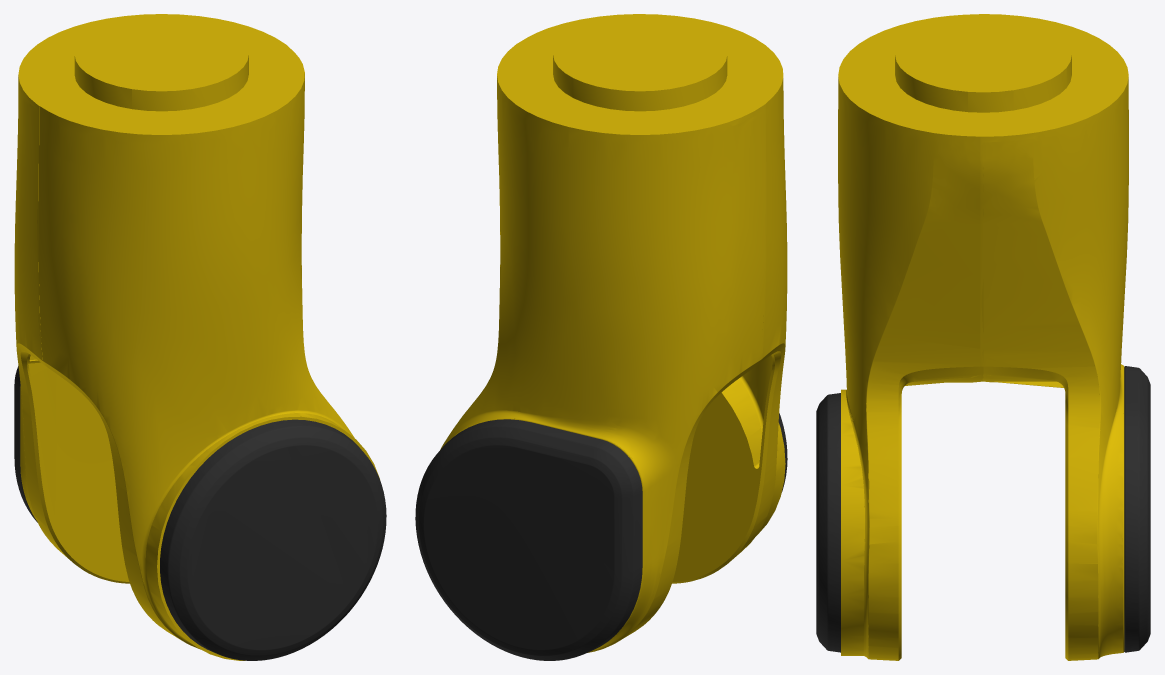
File: elbow_pitch_r_j3_link.glb
The picture shows the model from 3 angles, left to right: view 1: azimuth 30°, elevation 25°; view 2: azimuth 150°, elevation 25°; view 3: azimuth 270°, elevation 25°; orthographic projection.
Parts seen in each view (by area): view 1: Mesh_0.033; view 2: Mesh_0.033; view 3: Mesh_0.033.
Boxes of the visible parts, box(x1,y1,x2,y2) form: Mesh_0.033: box(14, 14, 386, 660); Mesh_0.033: box(415, 14, 787, 660); Mesh_0.033: box(816, 14, 1150, 660).
Bounding box in the file's own units: 0.1089 × 0.2092 × 0.1104.
